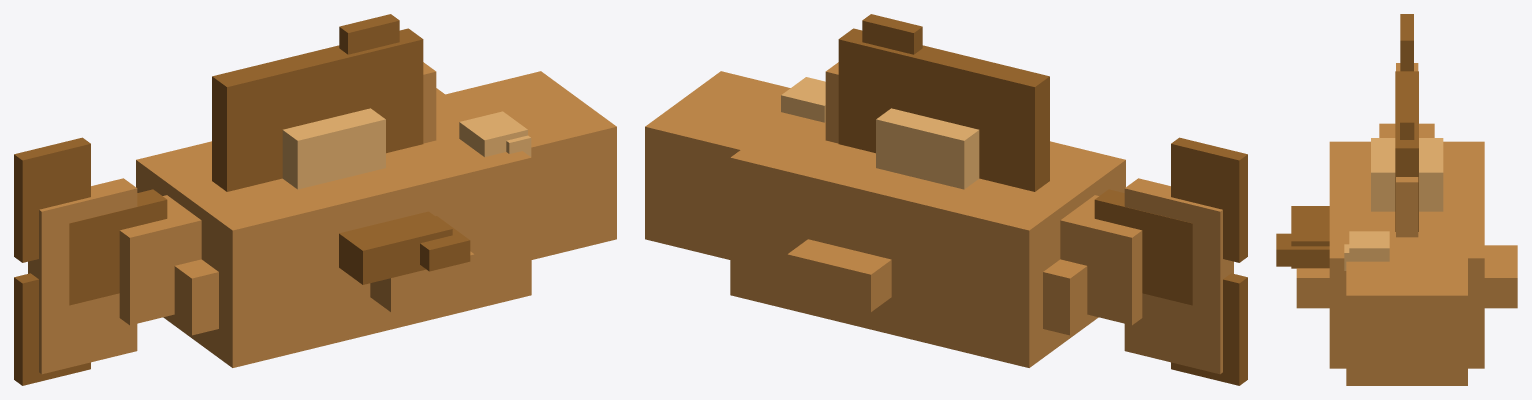
The model's file is fish_gilt_kiln.glb.
3 renders of one model, left to right at view 1: azimuth 30°, elevation 25°; view 2: azimuth 150°, elevation 25°; view 3: azimuth 270°, elevation 25°, orthographic. The views are drawn at different scales.
Parts seen in each view (by area): view 1: FishArt_body, FishArt_dorsal, FishArt_tail, FishArt_pectoral, FishArt_specialty, FishArt_eye; view 2: FishArt_body, FishArt_dorsal, FishArt_tail, FishArt_specialty, FishArt_eye; view 3: FishArt_body, FishArt_specialty, FishArt_pectoral, FishArt_dorsal, FishArt_eye, FishArt_tail.
Part boxes in pixels (x1,y1,x2,y2): FishArt_body: (28,62,616,374); FishArt_dorsal: (212,14,423,191); FishArt_tail: (14,137,167,385); FishArt_pectoral: (339,211,470,284); FishArt_specialty: (282,108,385,189); FishArt_eye: (459,111,531,156); FishArt_body: (645,62,1233,374); FishArt_dorsal: (838,14,1049,191); FishArt_tail: (1094,137,1247,385); FishArt_specialty: (876,108,979,189); FishArt_eye: (781,77,825,122); FishArt_body: (1296,63,1517,385); FishArt_specialty: (1371,138,1443,211); FishArt_pectoral: (1276,206,1329,268); FishArt_dorsal: (1395,71,1418,231); FishArt_eye: (1344,231,1389,270); FishArt_tail: (1400,14,1413,71).
Bounding box in the file's own units: 0.3091 × 0.1442 × 0.1439.
